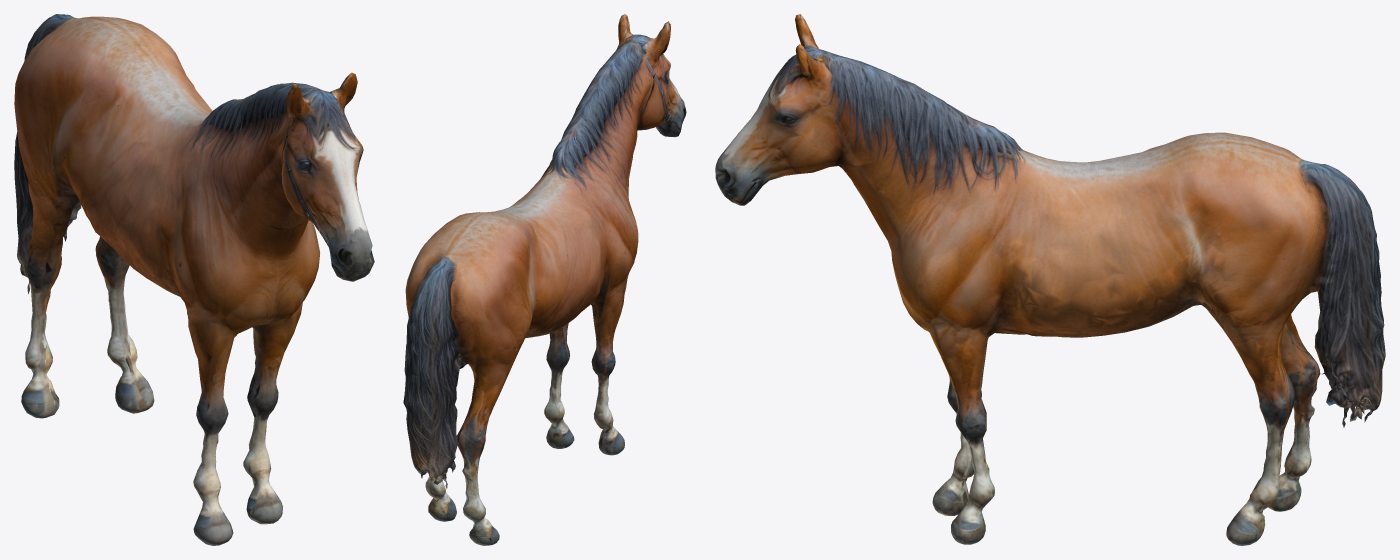
Rendered from A_real_Horse.glb.
3 views of the same model, side by side, from view 1: azimuth 30°, elevation 25°; view 2: azimuth 150°, elevation 25°; view 3: azimuth 270°, elevation 25° (orthographic). The views are drawn at different scales.
Size of the model in its own units: 0.2829 by 0.9894 by 1.2.
1 material, 1 textured.
